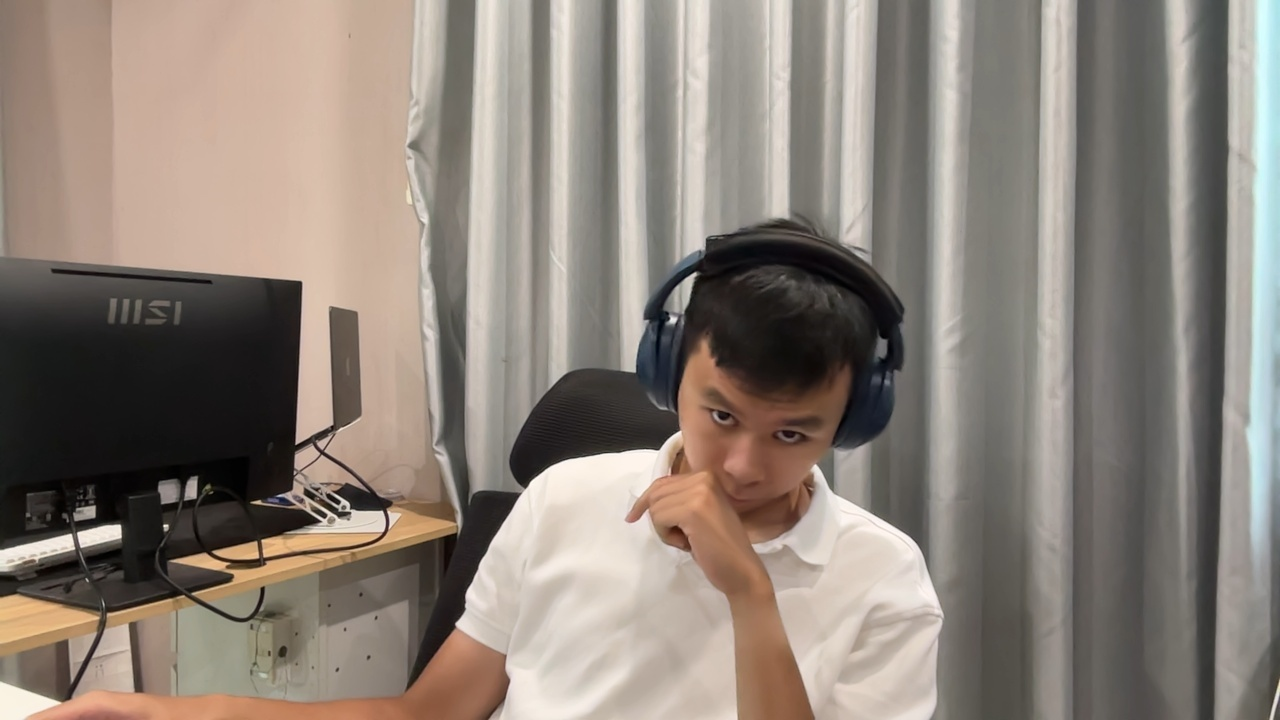over_ear: (634, 215, 908, 448), (634, 255, 706, 418)
